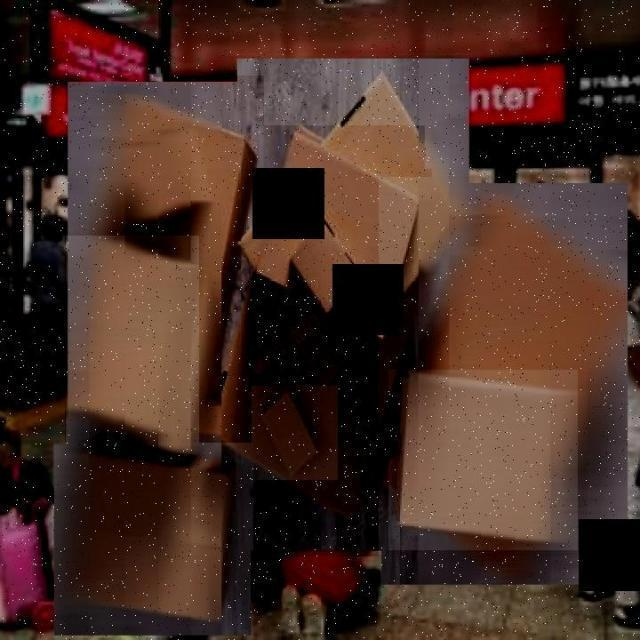box: (378, 177, 632, 592), (206, 169, 432, 557), (235, 53, 473, 402), (65, 75, 264, 468), (258, 125, 425, 364), (52, 443, 254, 639), (388, 370, 578, 550), (66, 236, 200, 454), (277, 210, 378, 330), (116, 118, 218, 234), (252, 386, 338, 480)
